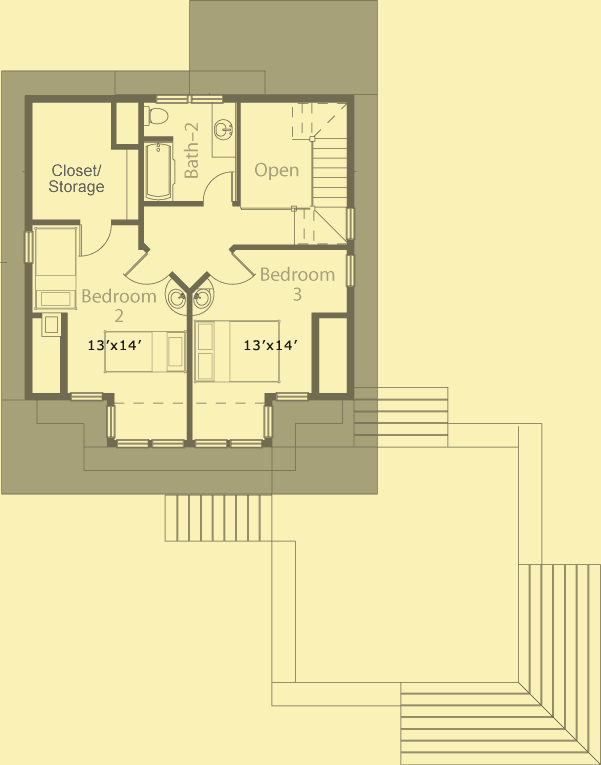bed: (192, 319, 282, 385), (30, 223, 80, 311), (100, 328, 186, 374)
door: (204, 247, 260, 290), (123, 251, 170, 289), (79, 219, 111, 257), (200, 169, 235, 203)
large_sink: (139, 101, 170, 132)
small_sink: (211, 103, 239, 159)
stairs: (290, 103, 347, 247)
tub: (144, 142, 177, 200)
window: (195, 437, 263, 453), (344, 209, 357, 291), (154, 89, 225, 104), (114, 437, 184, 451), (68, 389, 109, 405), (262, 403, 275, 439)
